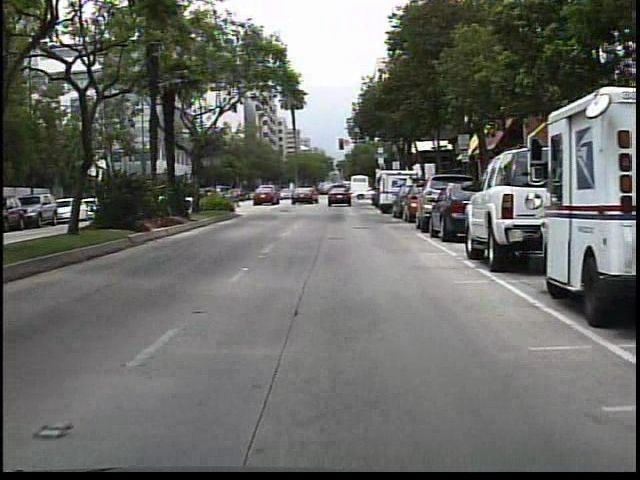person: (326, 181, 342, 204), (310, 184, 323, 205)
